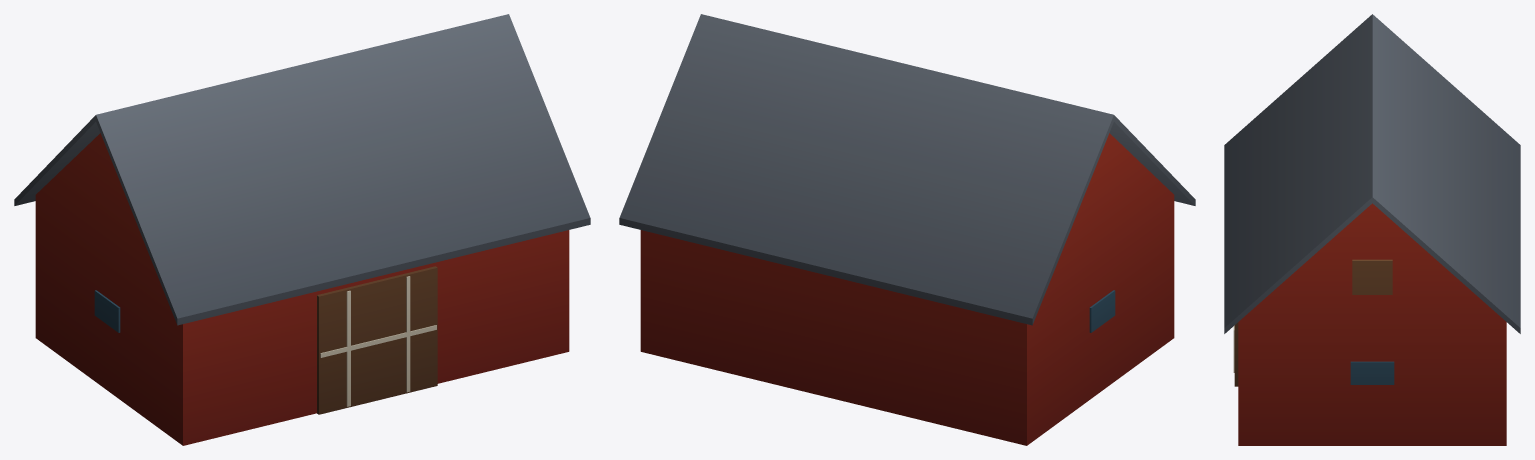
File: Grange.fbx
3 views of the same model, side by side, from view 1: azimuth 30°, elevation 25°; view 2: azimuth 150°, elevation 25°; view 3: azimuth 270°, elevation 25° (orthographic). The views are drawn at different scales.
Parts seen in each view (by area): view 1: Grange_LOD0; view 2: Grange_LOD0; view 3: Grange_LOD0.
Part boxes in pixels (box(x1,y1,x2,y2)): Grange_LOD0: box(14, 14, 590, 445); Grange_LOD0: box(619, 14, 1195, 445); Grange_LOD0: box(1224, 14, 1520, 445).
Bounding box in the file's own units: 1.99 × 1.29 × 1.36.
Materials: 1 (1 with a texture image).
